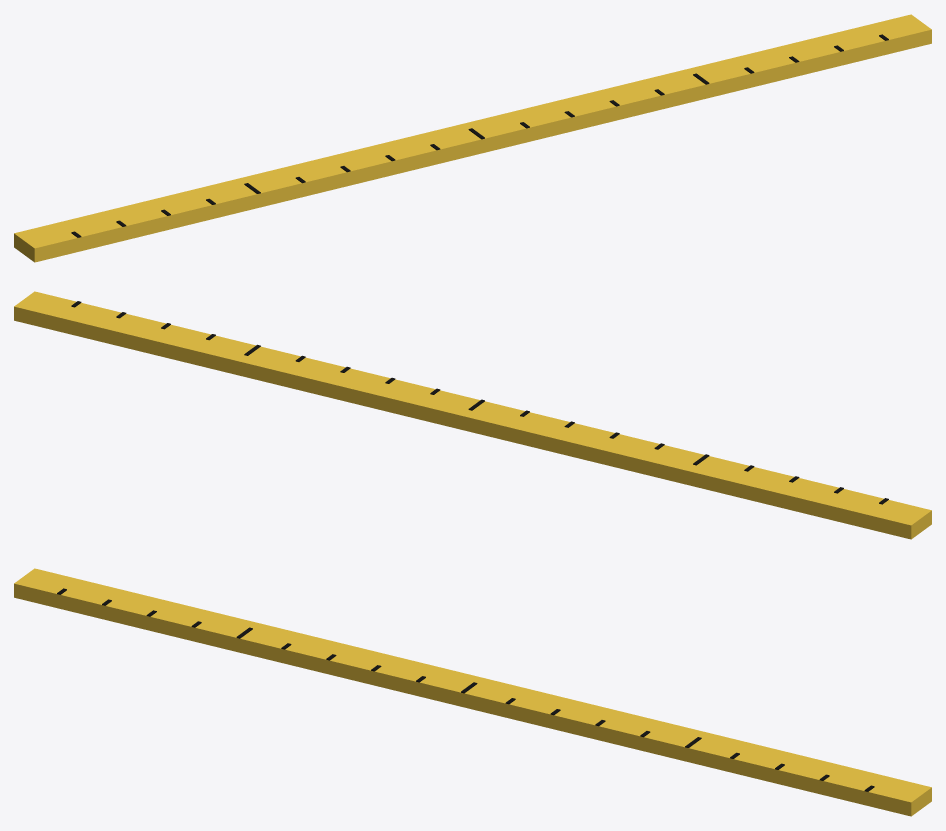
Rendered from ruler_2m.glb.
The picture shows the model from 3 angles, top to bottom: view 1: azimuth 30°, elevation 25°; view 2: azimuth 150°, elevation 25°; view 3: azimuth 330°, elevation 25°; orthographic projection.
Visible parts, largest first — view 1: ruler_ruler_yellow; view 2: ruler_ruler_yellow; view 3: ruler_ruler_yellow.
Boxes of the visible parts, x1,y1,x2,y2 form: ruler_ruler_yellow: [14, 14, 931, 262]; ruler_ruler_yellow: [14, 291, 931, 539]; ruler_ruler_yellow: [14, 568, 931, 816].
Bounding box in the file's own units: 2 × 0.032 × 0.08.
